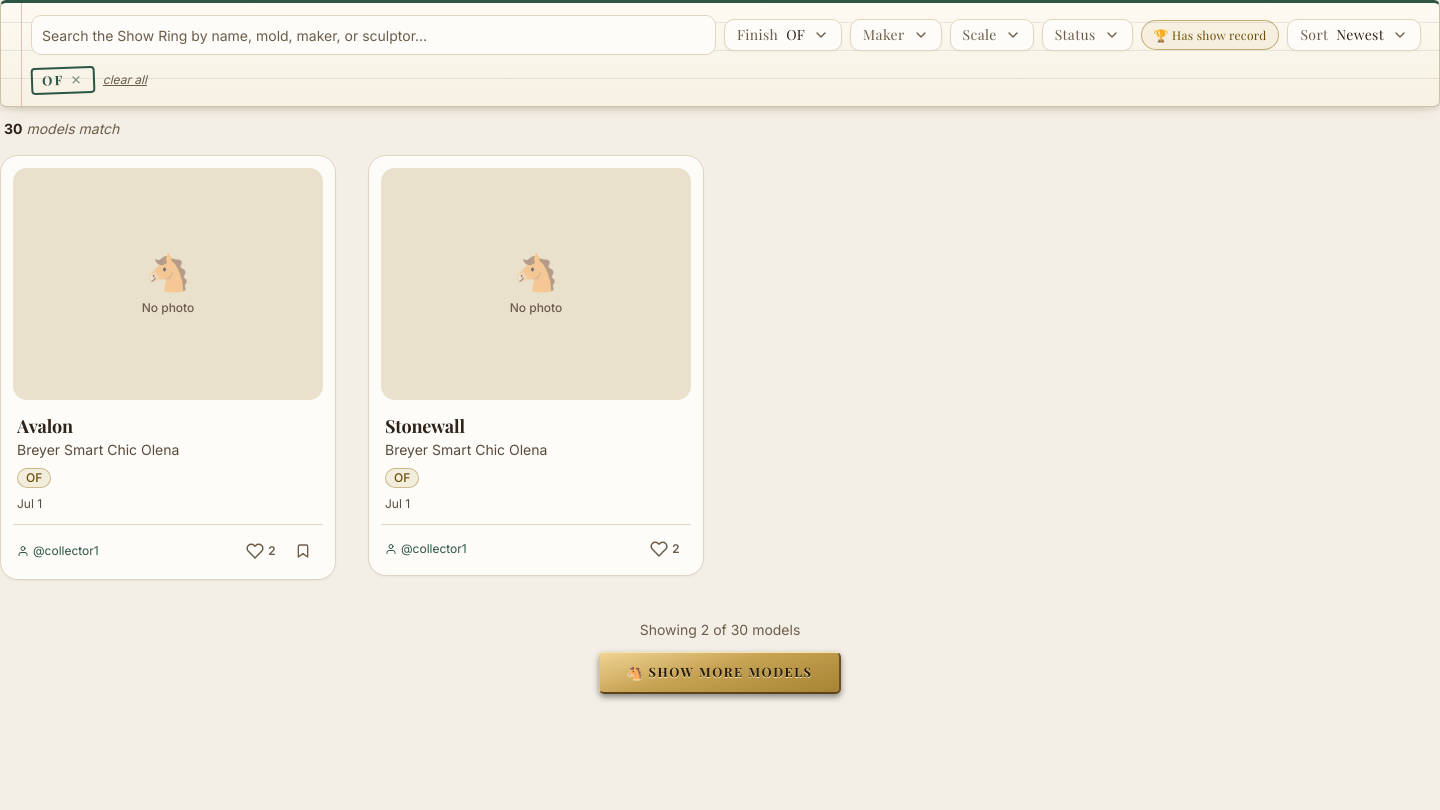
Test: ShowRingBrowser › Show More appends the next page with the current filters
Expected: the heading "Avalon" is shown, [17,414,73,438]
What coordinates should you click on to do the following:
click the button "🐴 Show More Models"
I would click on:
 (720, 673)
Its box is [599,652,840,694].
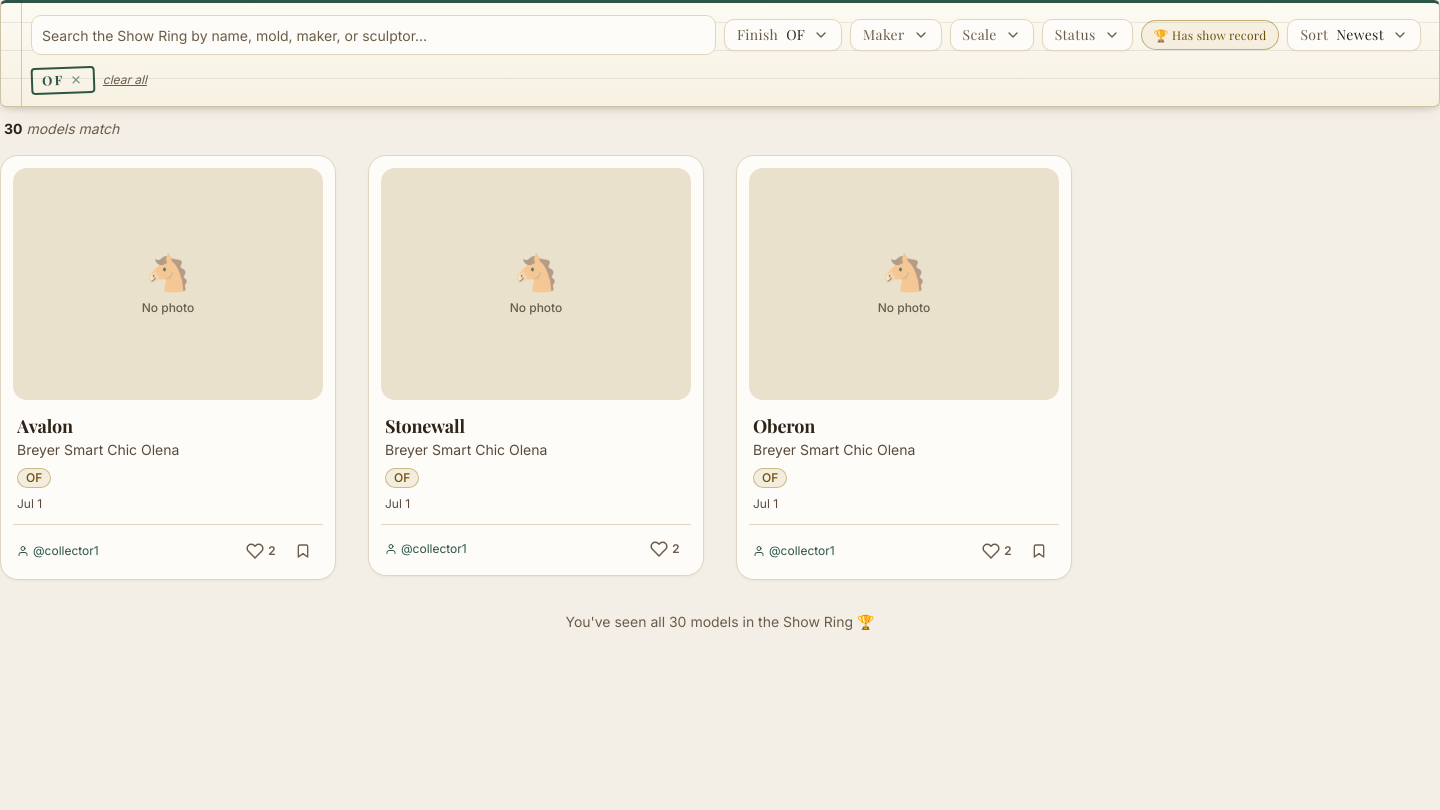
Expected: the heading "Avalon" is shown, [17,414,73,438]
Now the heading "Oberon" is shown, box [753,414,815,438]
Now the button "Show More Models" is gone
